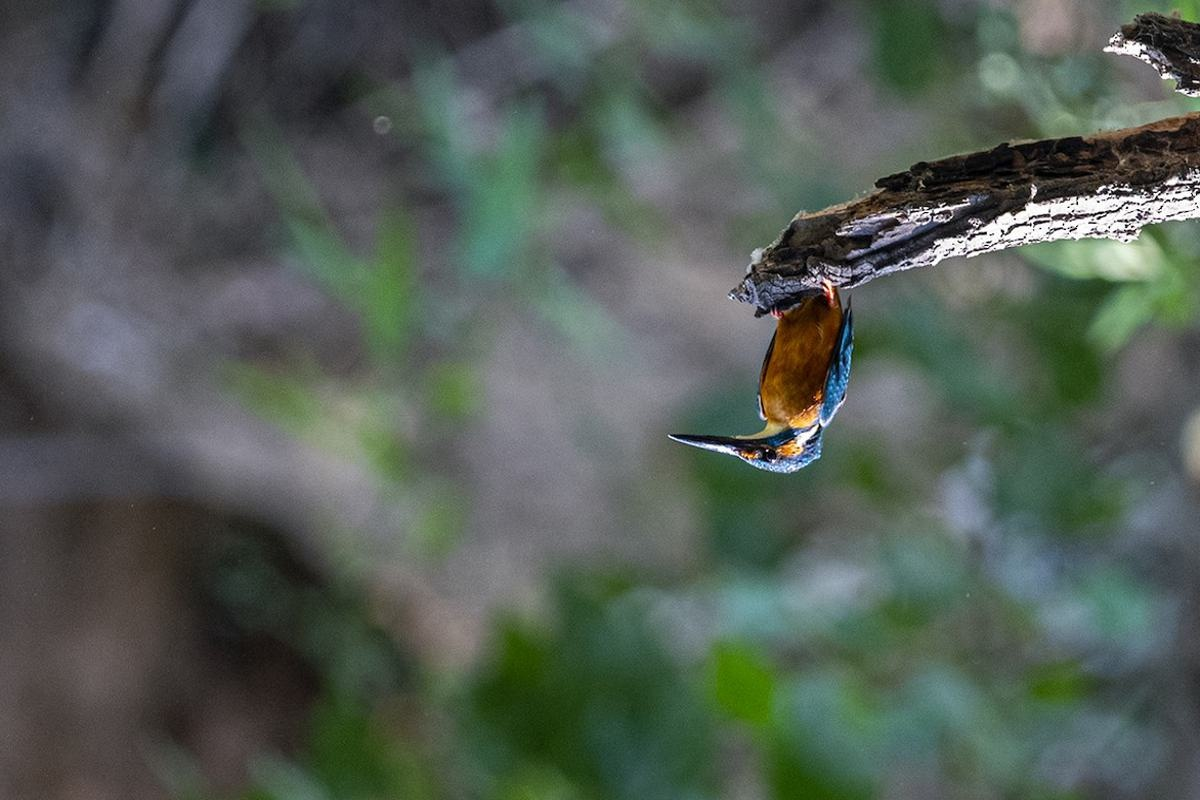kingfisher: (663, 258, 901, 498)
